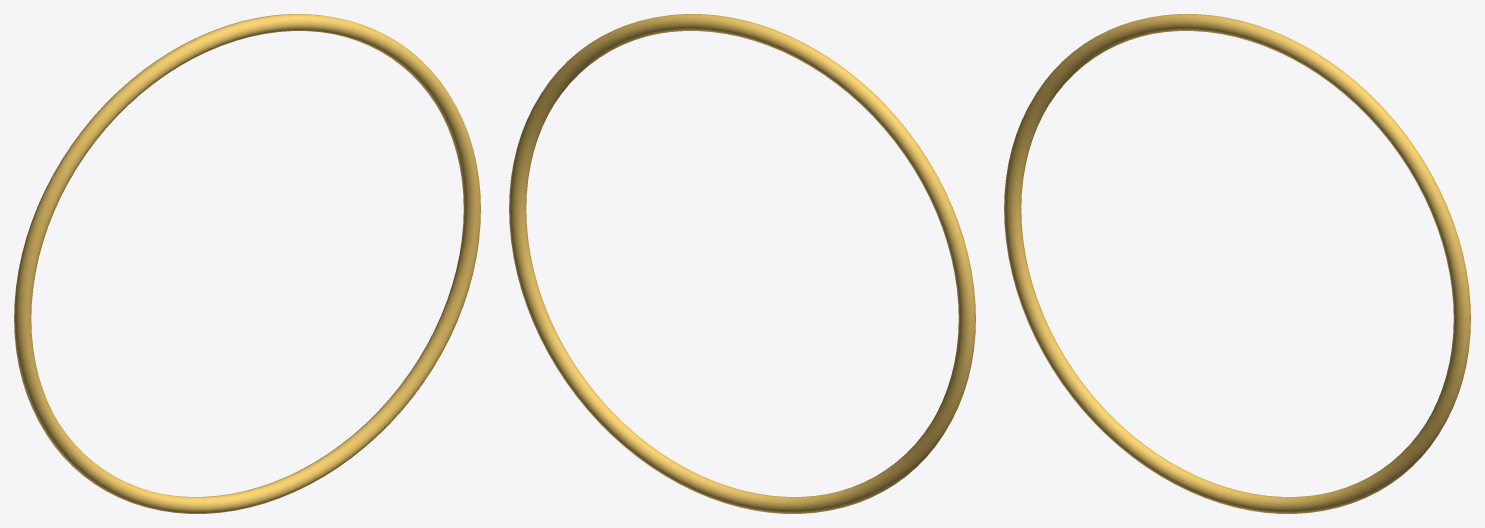
The model's file is sp_hoop.glb.
3 views of the same model, side by side, from view 1: azimuth 30°, elevation 25°; view 2: azimuth 150°, elevation 25°; view 3: azimuth 330°, elevation 25° (orthographic).
Size of the model in its own units: 12.4 by 12.4 by 0.4.
